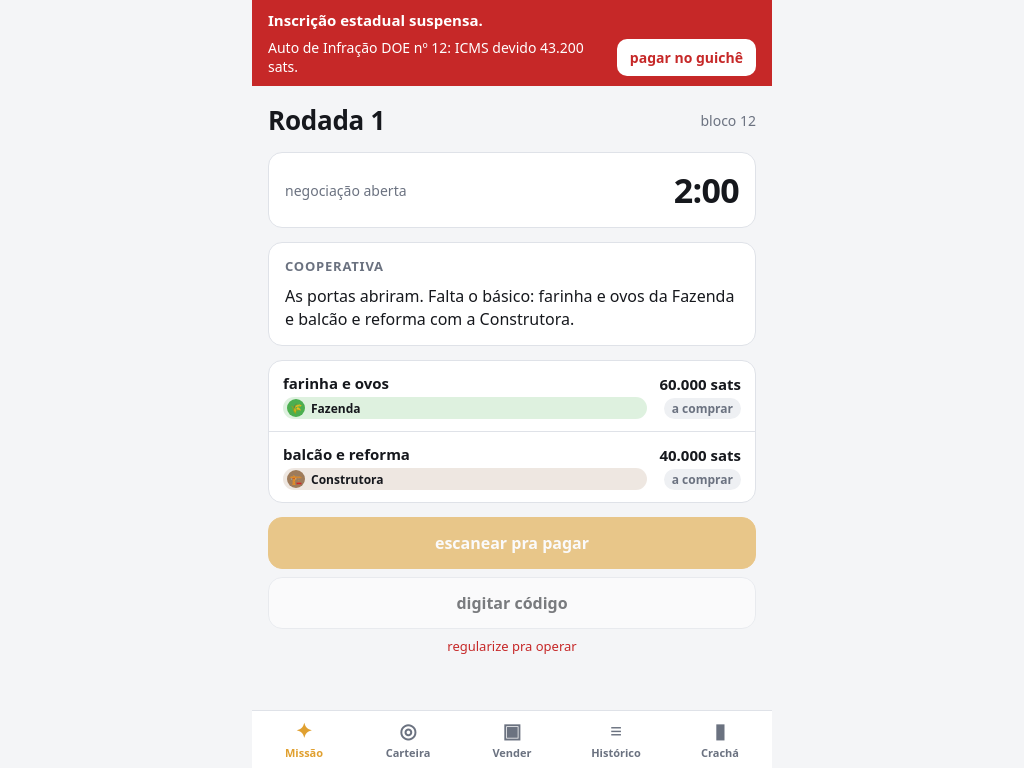
suspended: red banner, disabled buy and sell, pay at the counter
The image size is (1024, 768).
Later steps or results of the test are not shown.
Check: the message is shown, box [252,0,772,86]
Check: the text "Auto de Infração DOE nº 12: ICMS devido 43.200 sats." is shown, box [268,38,607,76]
Click the tab "▣ Vender" at (512, 740), box [460,711,564,767]
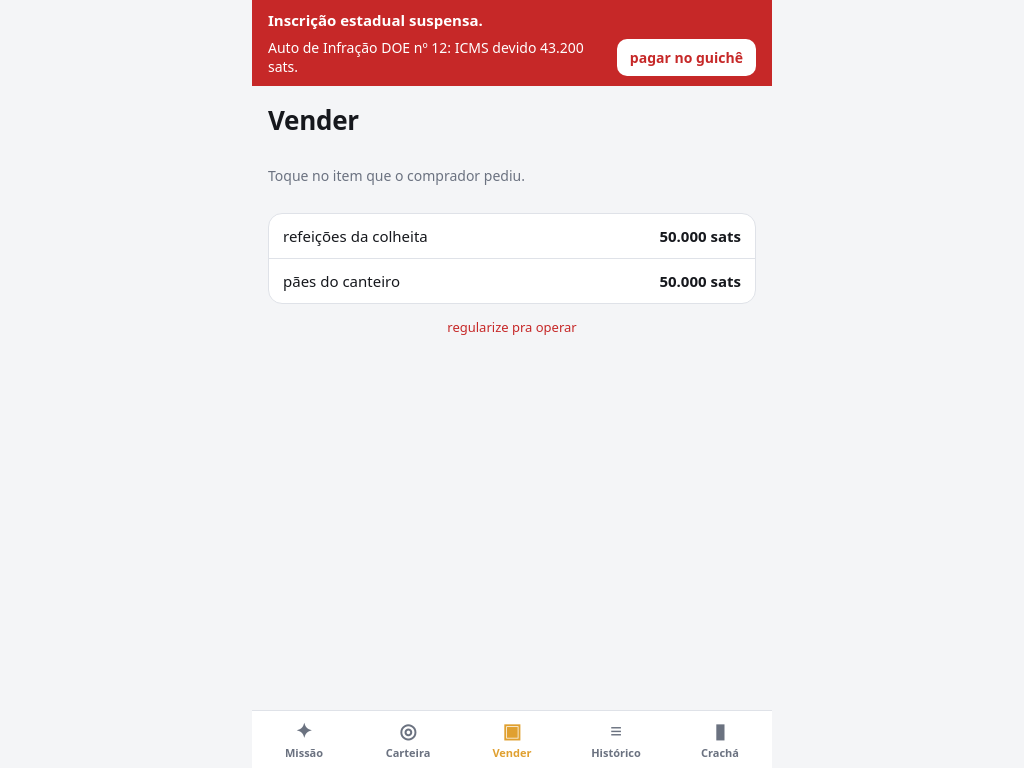
Check: the button "refeições da colheita 50.000 sats" is disabled, box [269,214,755,259]
Click the button "pagar no guichê" at (686, 57), box [617,38,756,76]
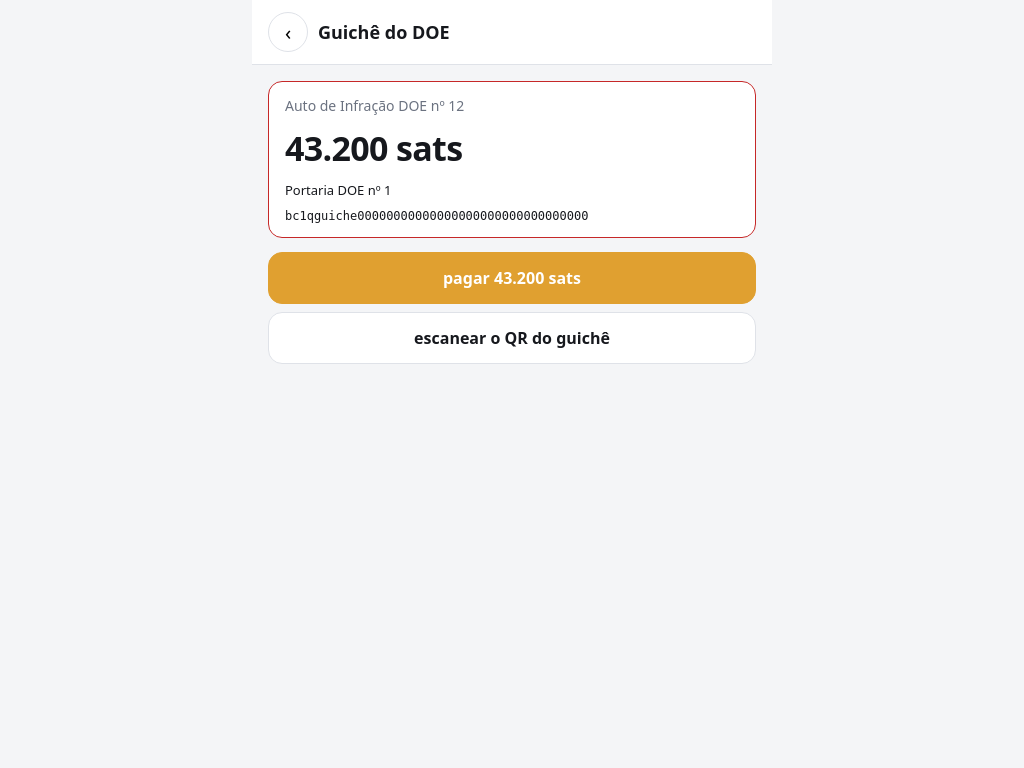
Check: the dialog "Guichê do DOE" is shown, box [252,0,772,767]
Click the button "pagar 43.200 sats" at (512, 278), box [268,252,756,304]
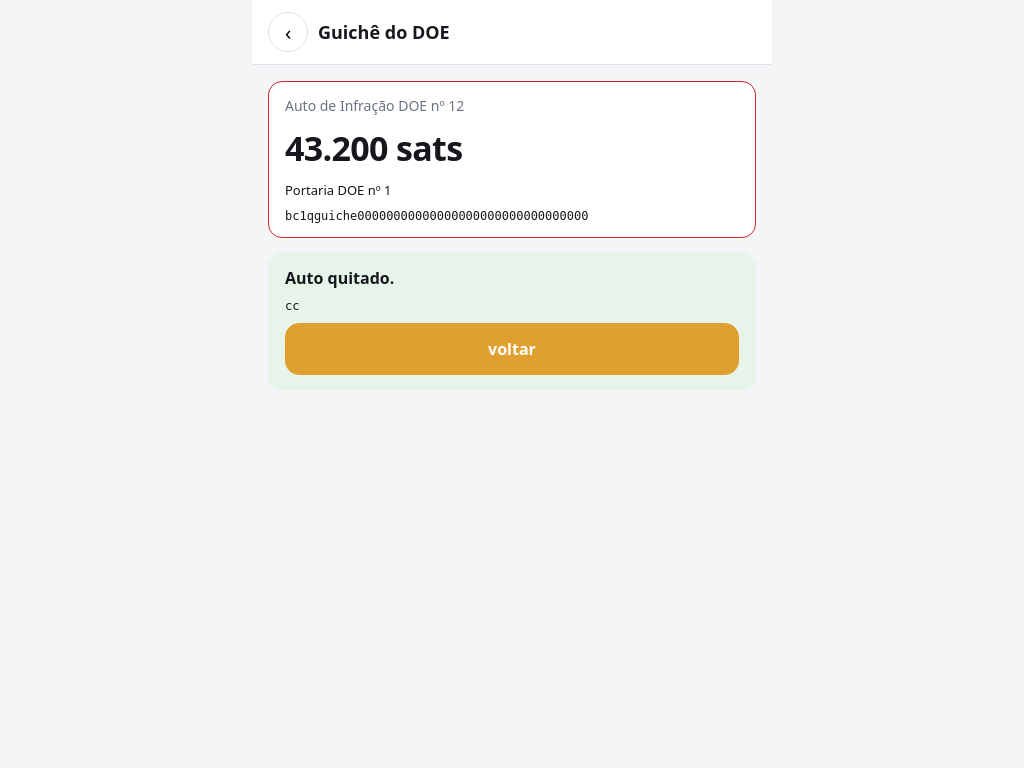
Check: the text "Auto quitado." is shown, box [285,267,394,289]
